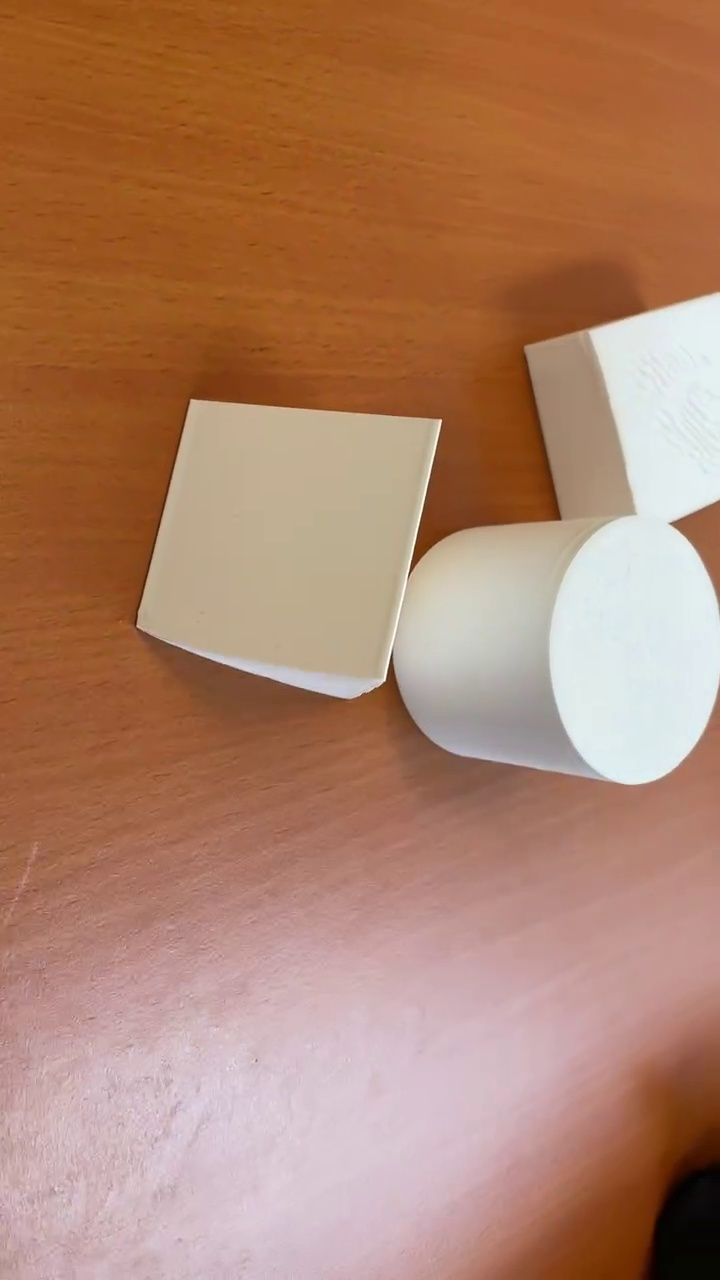Cube_short: (523, 293, 720, 523)
Cylinder: (389, 515, 720, 787)
Triangle: (130, 396, 444, 698)
